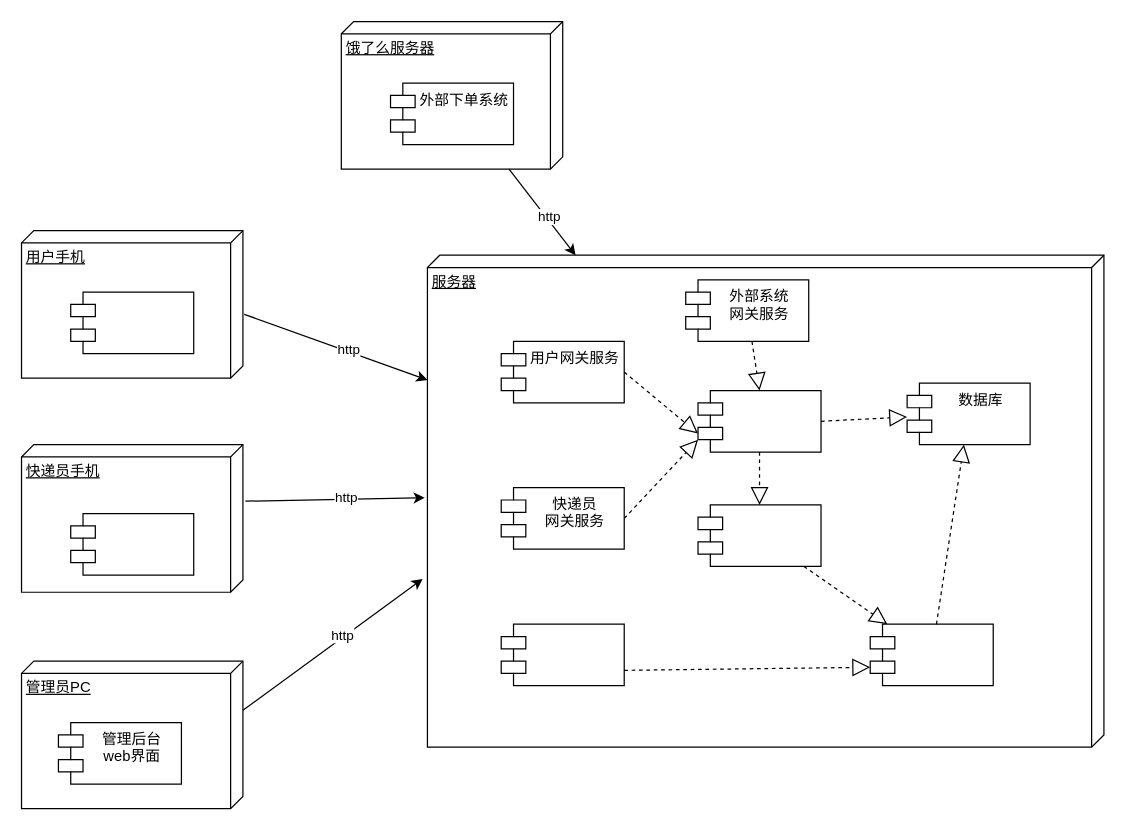
Some shapes in this 1125 by 830 pixel diagram are drawn without their labels. Here are the shapes that lost their labels. From the top down, the centre of each, then its label:
[131,322]: 用户APP
[759,420]: 订单服务
[131,543]: 快递员APP
[759,535]: 消息中间件
[562,654]: 管理服务
[931,654]: 统计服务
